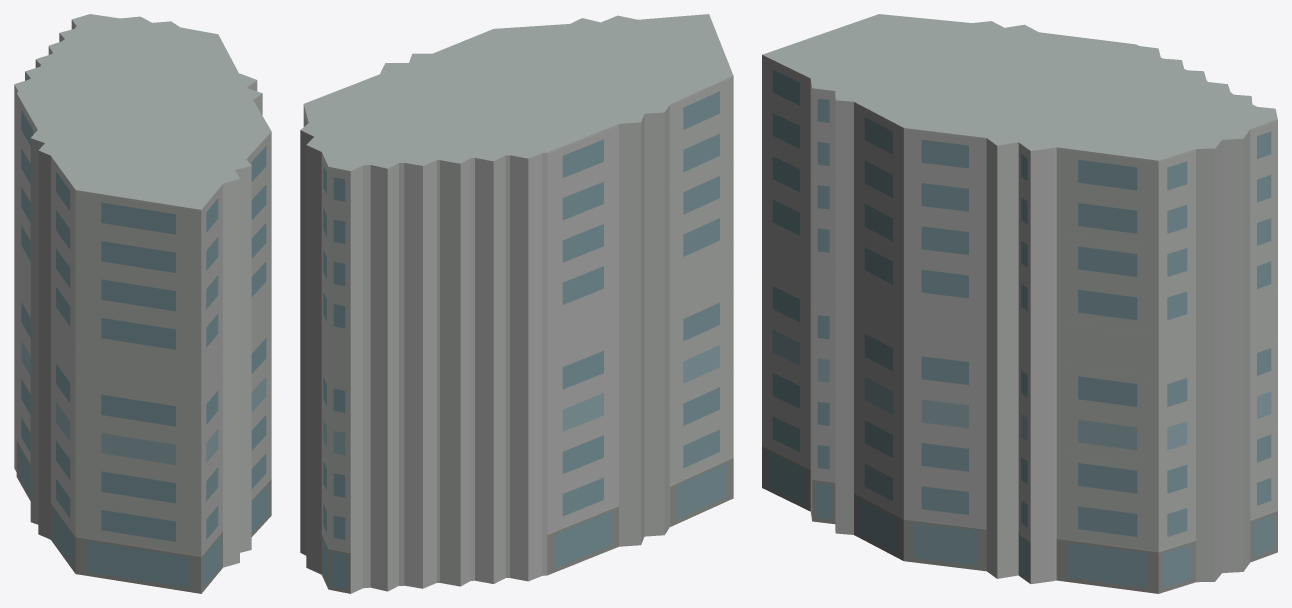
The model's file is survey-upis-32725247.glb.
3 views of the same model, side by side, from view 1: azimuth 30°, elevation 25°; view 2: azimuth 150°, elevation 25°; view 3: azimuth 270°, elevation 25° (orthographic). The views are drawn at different scales.
Parts seen in each view (by area): view 1: survey-upis-32725247.tmp; view 2: survey-upis-32725247.tmp; view 3: survey-upis-32725247.tmp.
Boxes of the visible parts, x1=… form: survey-upis-32725247.tmp: x1=14, y1=14, x2=271, y2=593; survey-upis-32725247.tmp: x1=300, y1=14, x2=733, y2=593; survey-upis-32725247.tmp: x1=762, y1=14, x2=1277, y2=593.
Bounding box in the file's own units: 37.18 × 51.15 × 55.21.
